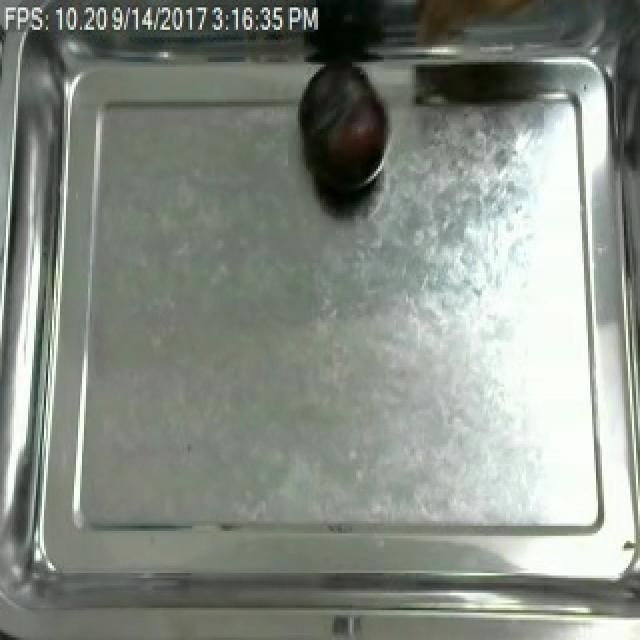Fruit: (296, 64, 390, 201)
